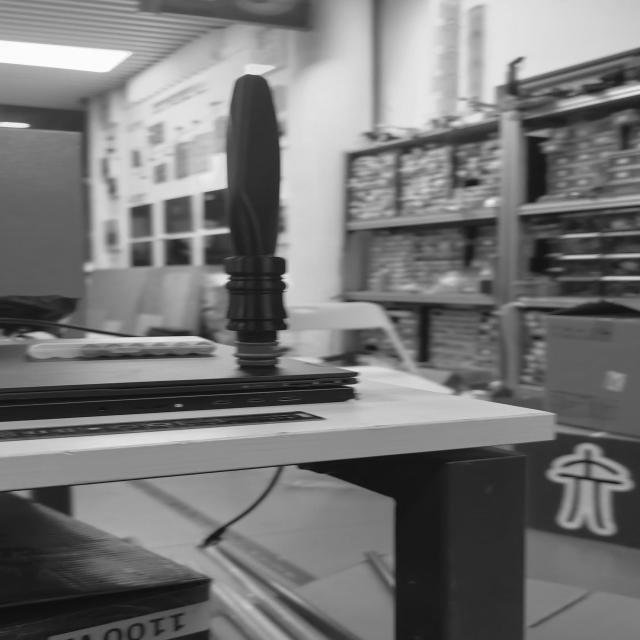base: (233, 342, 281, 367)
